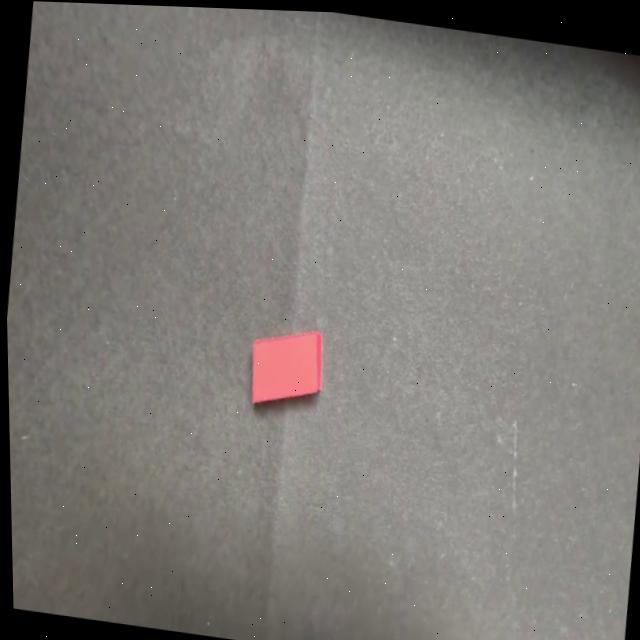red block: (243, 321, 325, 415)
